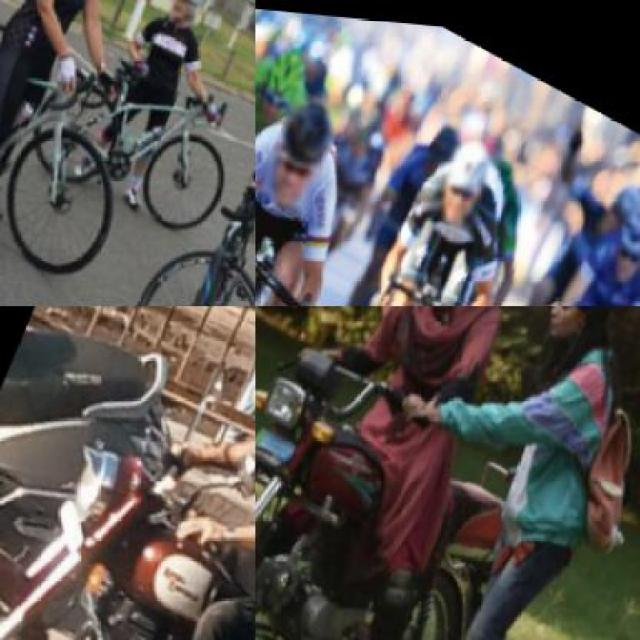With Helmet: (255, 77, 352, 220), (412, 108, 511, 232), (256, 31, 322, 138), (588, 182, 638, 289), (149, 0, 214, 26)
